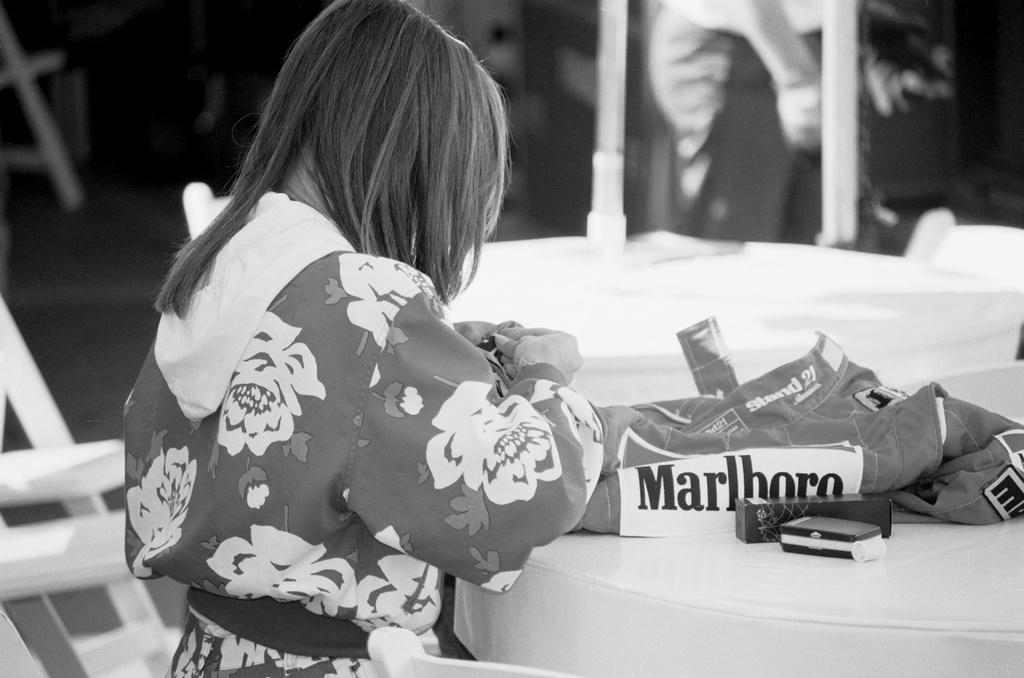Table: (439, 349, 1023, 677), (447, 221, 1023, 404)
